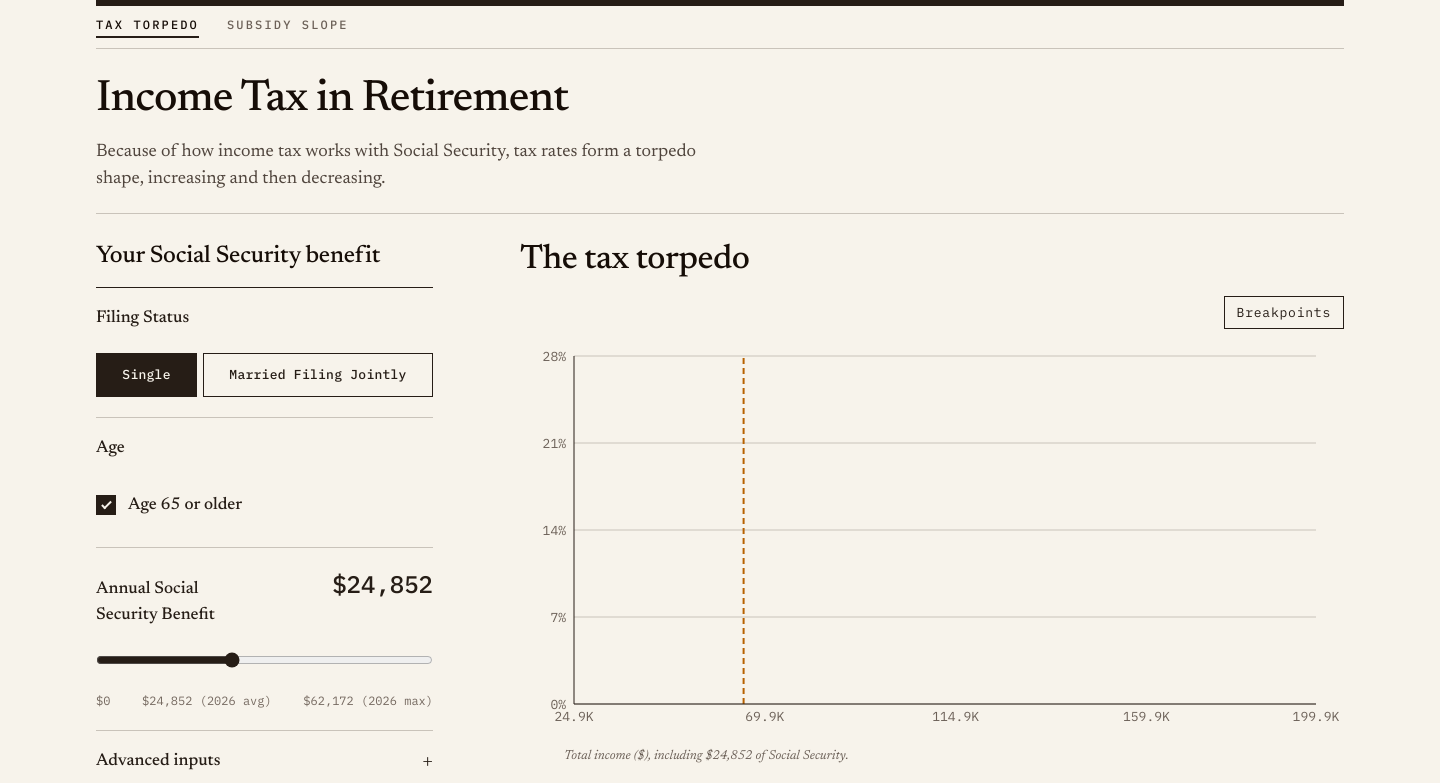
Test: the closing answer › restates the return it prices
Click the radio button labelled "Married Filing Jointly".
click(318, 375)  # box [203,354,433,397]
(page scrolled)
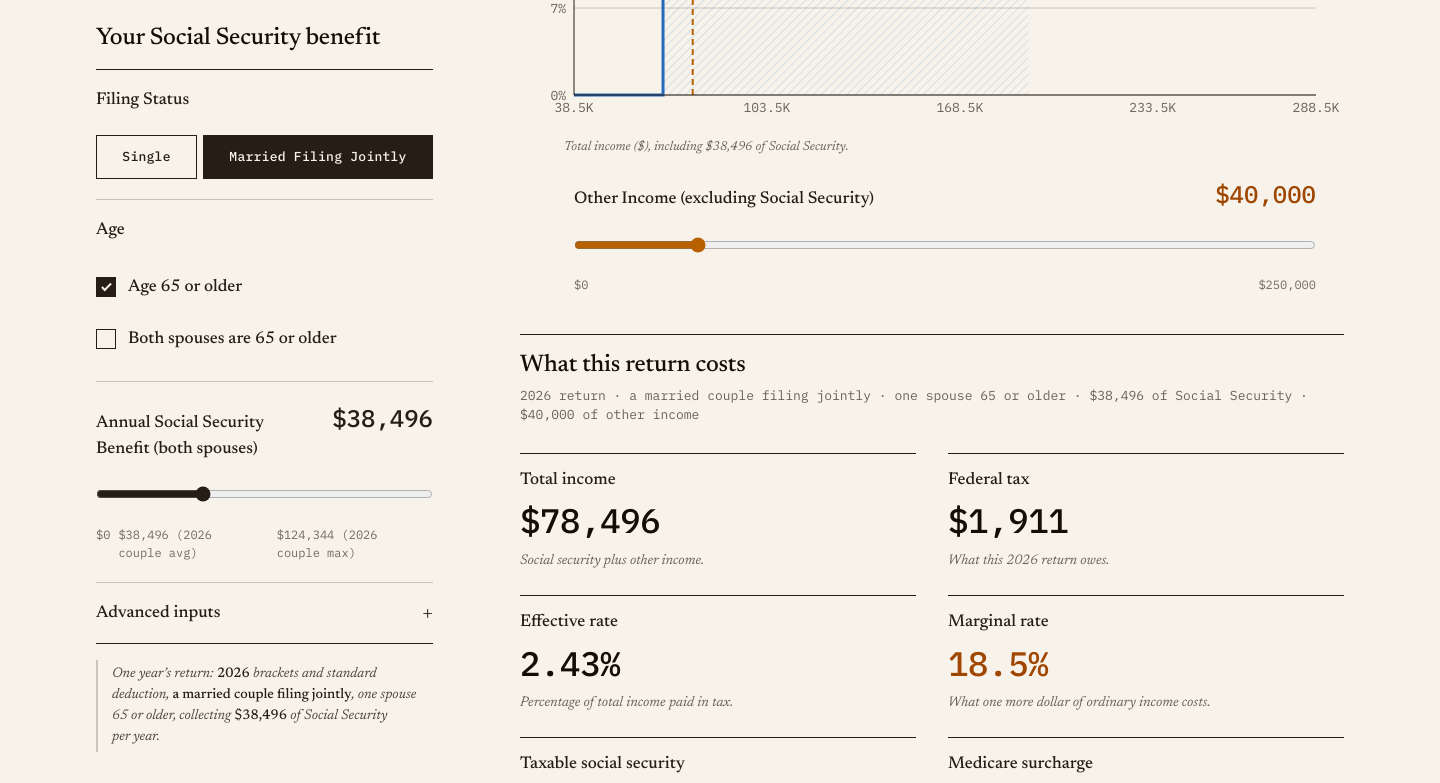
expect the text with class "answer-subline" shows "2026 return · a married couple filing jointly · one spouse 65 or older ·": met, box [520,386,1344,425]
